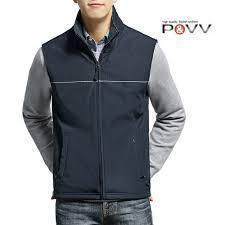helmet: (42, 8, 158, 201)
